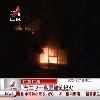fire: (40, 47, 60, 65)
